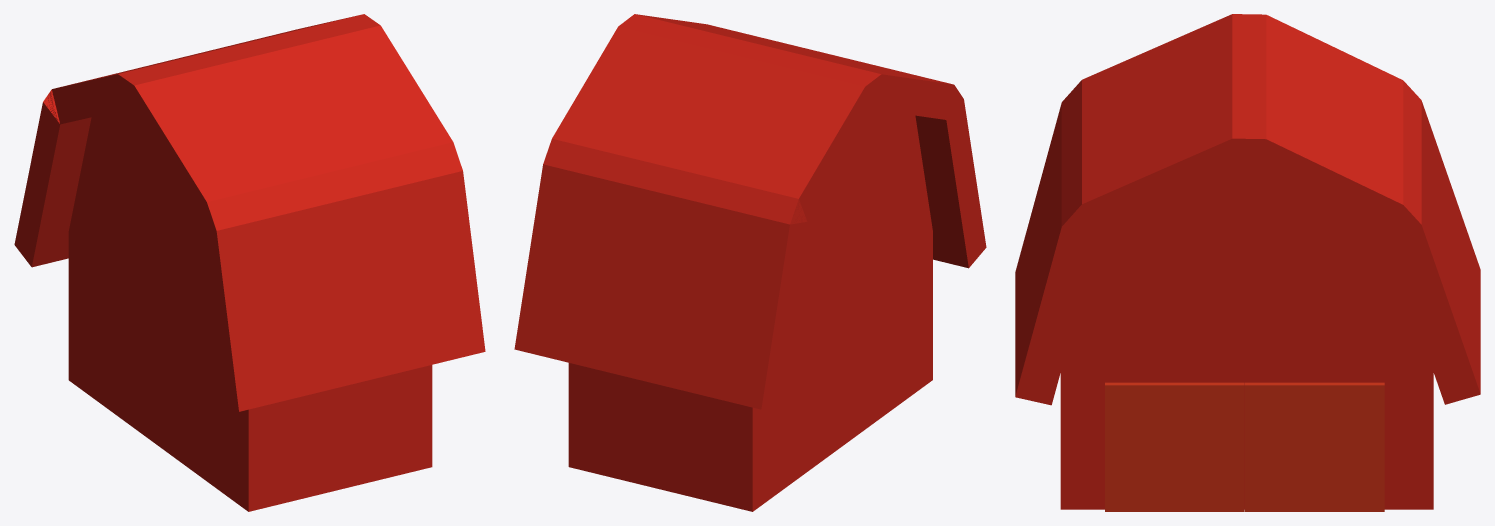
The model's file is FarmHouse.fbx.
3 renders of one model, left to right at view 1: azimuth 30°, elevation 25°; view 2: azimuth 150°, elevation 25°; view 3: azimuth 270°, elevation 25°, orthographic. The views are drawn at different scales.
Visible parts, largest first — view 1: FarmHouse; view 2: FarmHouse; view 3: FarmHouse, Door.
Part boxes in pixels (<box>): FarmHouse: <box>14,14,485,511</box>; FarmHouse: <box>514,14,986,511</box>; FarmHouse: <box>1015,14,1480,509</box>; Door: <box>1105,382,1384,511</box>.
Bounding box in the file's own units: 7.85 × 11.37 × 12.4.
